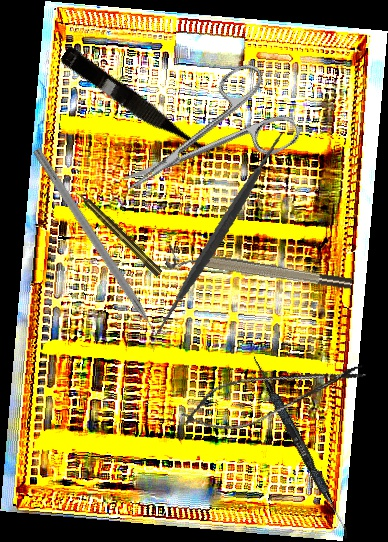Chopper: (21, 147, 168, 355)
Fixation Ring: (164, 242, 354, 301)
Handpiece: (73, 188, 164, 278)
Iris Scissors: (101, 56, 304, 223)
Micro Scissor: (57, 45, 221, 170), (174, 345, 372, 444)
Spatula Surgical: (115, 131, 322, 338), (246, 354, 356, 540)
